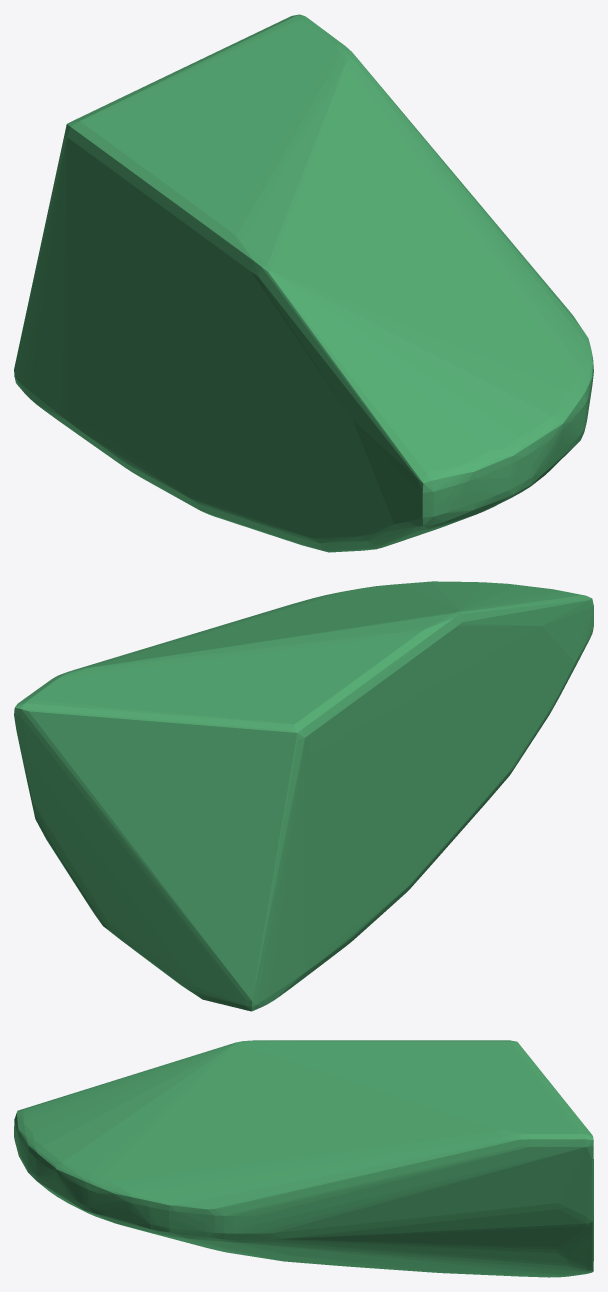
The model's file is right-shoulder-roll-0_part_3.obj.
3 views of the same model, one above another, from view 1: azimuth 30°, elevation 25°; view 2: azimuth 150°, elevation 25°; view 3: azimuth 270°, elevation 25° (orthographic). The views are drawn at different scales.
Size of the model in its own units: 0.0385 by 0.0385 by 0.0932.
